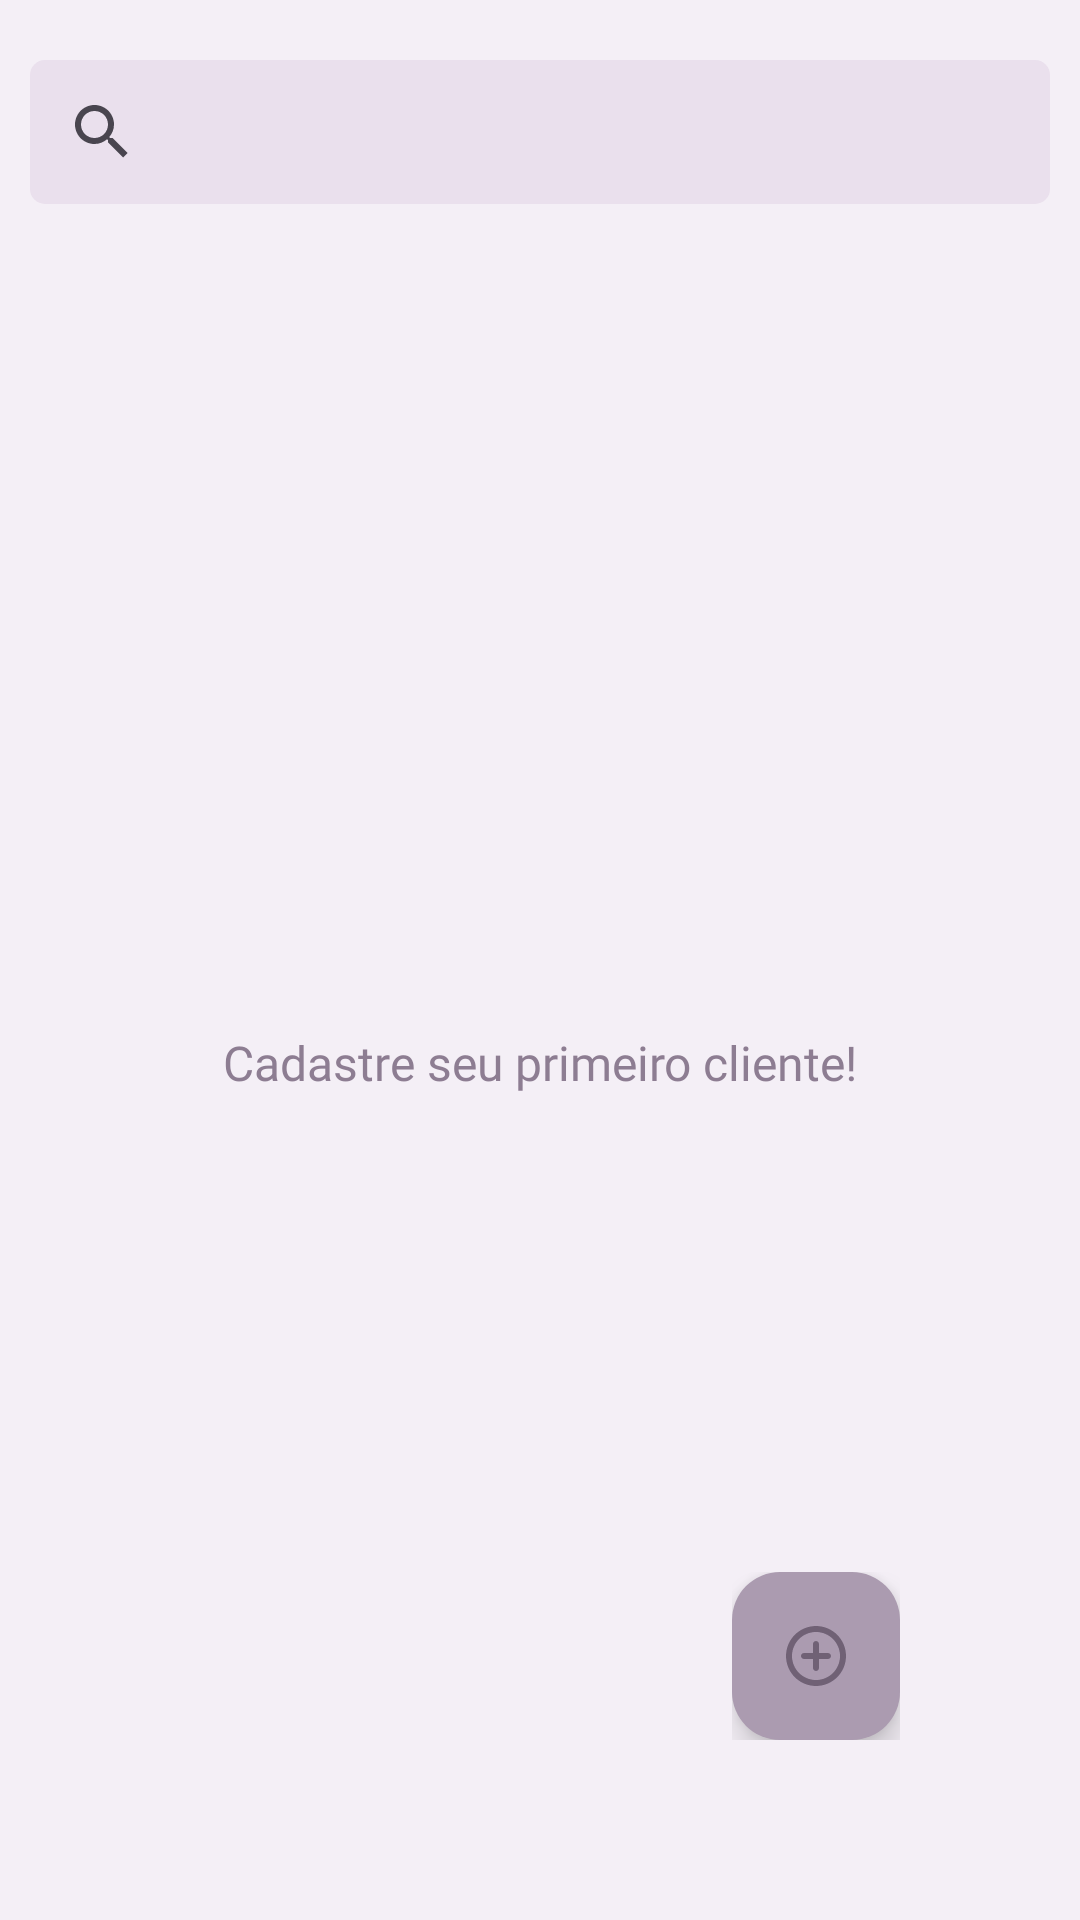

Where to tap for icons on this 1080w x 1920h app screen, as (x,y):
add circle: (816,1656)
